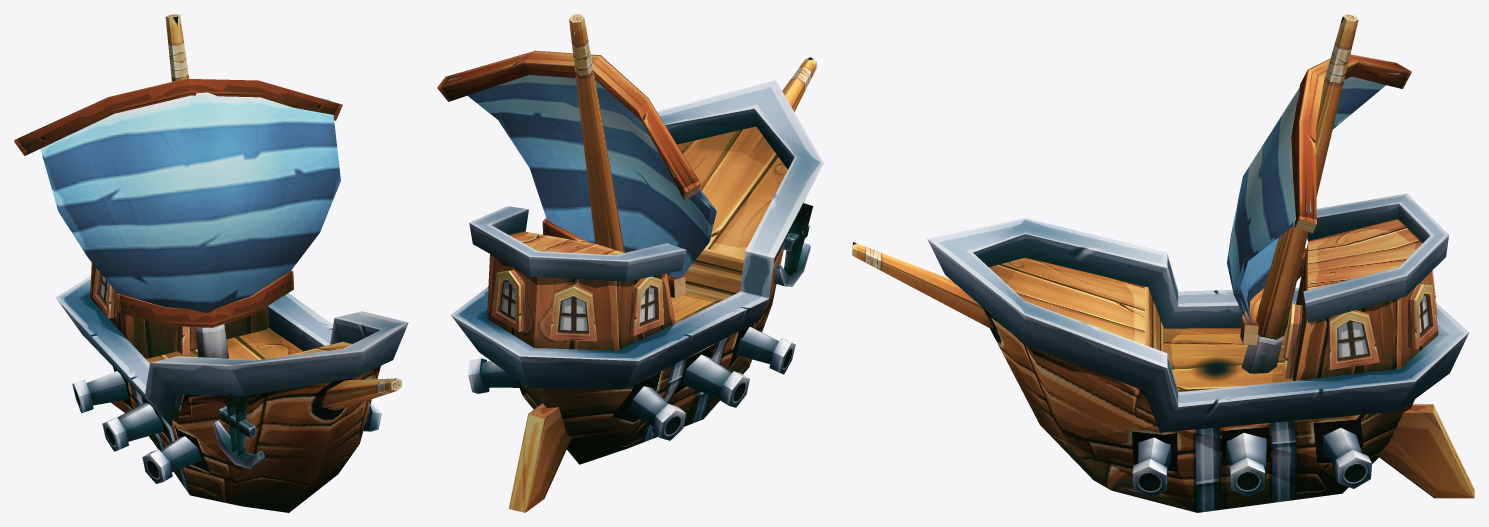
The model's file is baijian.fbx.
3 renders of one model, left to right at view 1: azimuth 30°, elevation 25°; view 2: azimuth 150°, elevation 25°; view 3: azimuth 270°, elevation 25°, orthographic. The views are drawn at different scales.
Visible parts, largest first — view 1: chuan, fan; view 2: chuan, fan; view 3: chuan, fan.
Boxes of the visible parts, x1,y1,x2,y2 form: chuan: (14,14,408,512); fan: (40,92,340,312); chuan: (437,14,823,512); fan: (448,75,716,280); chuan: (852,14,1474,512); fan: (1227,73,1399,324).
Size of the model in its own units: 8.34 by 12.37 by 14.11.
